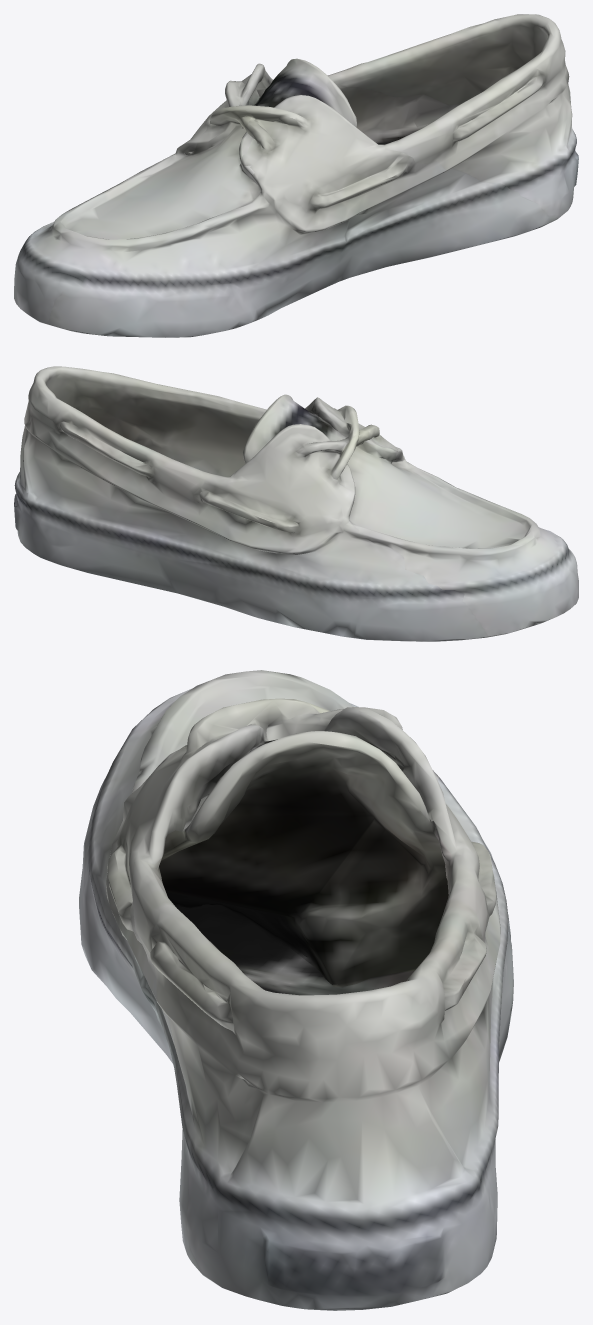
File: Womens_Canvas_Bahama_in_White_UfZPHGQpvz0-high.glb
3 renders of one model, top to bottom at view 1: azimuth 30°, elevation 25°; view 2: azimuth 150°, elevation 25°; view 3: azimuth 270°, elevation 25°, orthographic. The views are drawn at different scales.
Visible parts, largest first — view 1: Womens_Canvas_Bahama_in_White_UfZPHGQpvz0; view 2: Womens_Canvas_Bahama_in_White_UfZPHGQpvz0; view 3: Womens_Canvas_Bahama_in_White_UfZPHGQpvz0.
Part boxes in pixels (x1,y1,x2,y2): Womens_Canvas_Bahama_in_White_UfZPHGQpvz0: (14, 14, 578, 337); Womens_Canvas_Bahama_in_White_UfZPHGQpvz0: (14, 366, 578, 641); Womens_Canvas_Bahama_in_White_UfZPHGQpvz0: (79, 670, 513, 1310).
Size of the model in its own units: 0.2439 by 0.0801 by 0.0878.
Materials: 1 (1 with a texture image).
